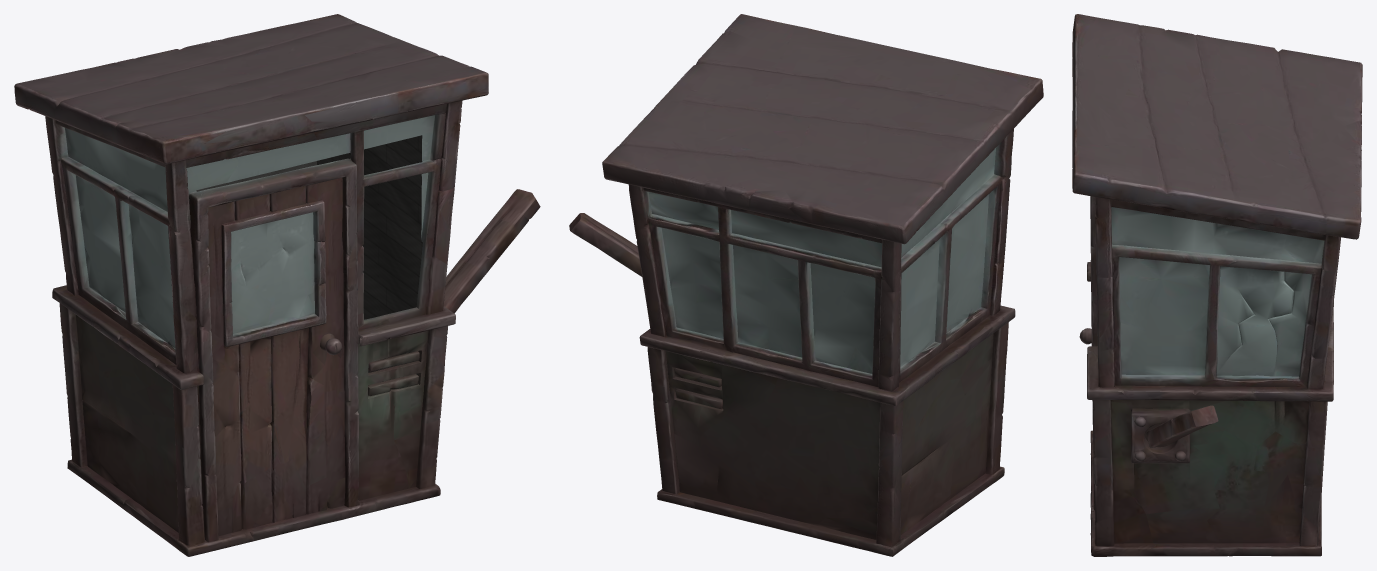
Rendered from prison_guard_booth_b.glb.
The picture shows the model from 3 angles, left to right: view 1: azimuth 30°, elevation 25°; view 2: azimuth 150°, elevation 25°; view 3: azimuth 270°, elevation 25°; orthographic projection. The views are drawn at different scales.
Visible parts, largest first — view 1: body, door, barrier; view 2: body, barrier; view 3: body, barrier, door.
Boxes of the visible parts, x1,y1,x2,y2 form: body: (14,14,488,556); door: (196,170,342,548); barrier: (445,189,540,289); body: (602,14,1043,556); barrier: (569,213,642,276); body: (1072,14,1362,556); barrier: (1172,405,1218,442); door: (1079,271,1093,502).
Size of the model in its own units: 3.23 by 3 by 1.92.
Materials: 8 (3 with a texture image).
